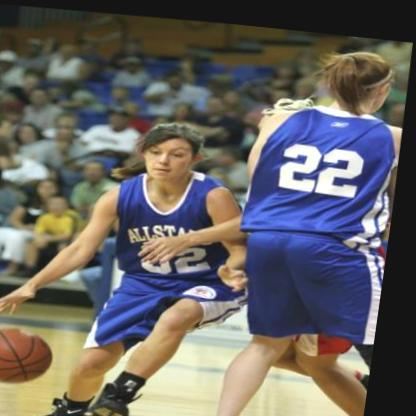basketball: (0, 322, 68, 386)
